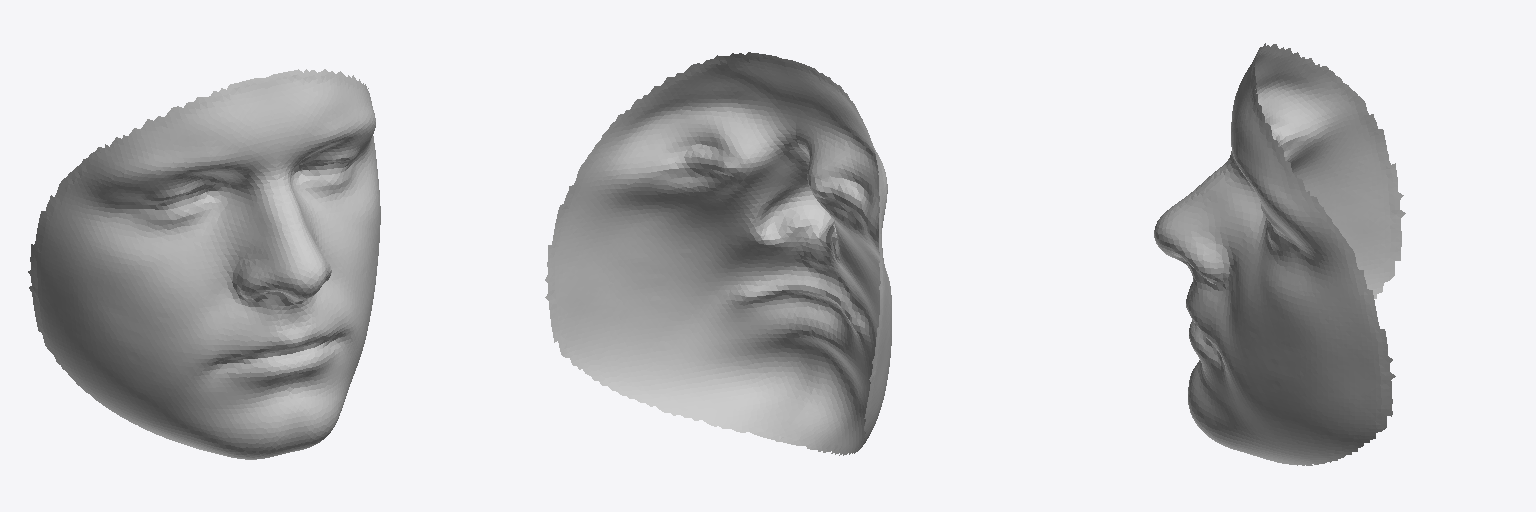
Rendered from SIMPOP_05.obj.
The picture shows the model from 3 angles: view 1: azimuth 30°, elevation 25°; view 2: azimuth 150°, elevation 25°; view 3: azimuth 270°, elevation 25°; orthographic projection.
Visible parts, largest first — view 1: SIMPOP_05; view 2: SIMPOP_05; view 3: SIMPOP_05.
Part boxes in pixels (bbox=[...]): SIMPOP_05: bbox=[28, 69, 380, 459]; SIMPOP_05: bbox=[545, 52, 891, 455]; SIMPOP_05: bbox=[1154, 43, 1405, 465].
Bounding box in the file's own units: 147 × 160 × 96.03.